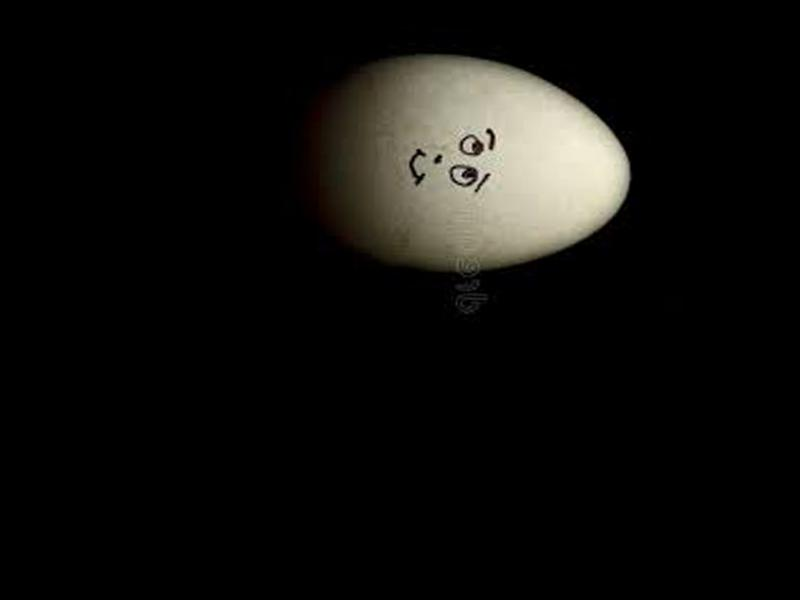Eggs: (307, 51, 635, 275)
